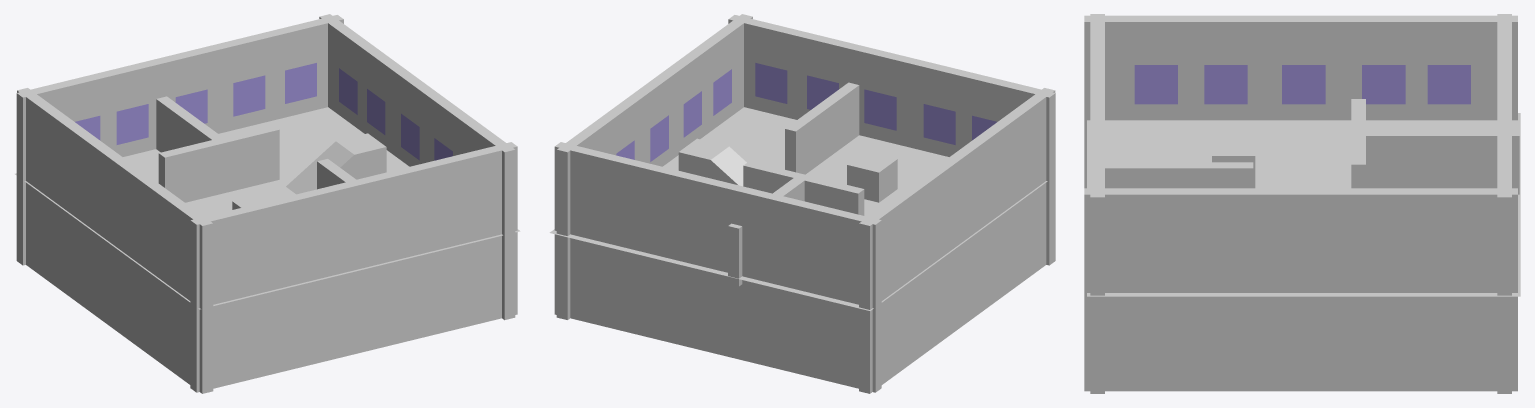
File: shaat.glb
3 renders of one model, left to right at view 1: azimuth 30°, elevation 25°; view 2: azimuth 150°, elevation 25°; view 3: azimuth 270°, elevation 25°, orthographic. The views are drawn at different scales.
Parts seen in each view (by area): view 1: Cube.003, Cube, Cube.002, Cube.001, Plane, Cube.006, Cube.008, Cube.004, Plane.014, Plane.013, Plane.015, Cube.005 (+4 smaller); view 2: Cube.002, Cube, Cube.003, Cube.001, Plane, Cube.005, Cube.006, Cube.008, Cube.007, Cube.004, Plane.017, Plane.018 (+5 smaller); view 3: Cube.001, Cube, Plane, Cube.004, Cube.002, Cube.003, Cube.005, Plane.002, Plane.004, Plane.005, Plane.006, Plane.003 (+2 smaller).
Boxes of the visible parts, left/top/right/bottom form: Cube.003: left=190, top=142, right=517, bottom=392; Cube: left=17, top=88, right=213, bottom=393; Cube.002: left=16, top=15, right=343, bottom=265; Cube.001: left=319, top=14, right=515, bottom=320; Plane: left=15, top=107, right=520, bottom=309; Cube.006: left=158, top=125, right=279, bottom=202; Cube.008: left=286, top=133, right=386, bottom=194; Cube.004: left=156, top=96, right=223, bottom=152; Plane.014: left=233, top=75, right=265, bottom=116; Plane.013: left=116, top=104, right=148, bottom=144; Plane.015: left=285, top=63, right=316, bottom=103; Cube.005: left=317, top=159, right=356, bottom=189; Cube.002: left=554, top=142, right=881, bottom=392; Cube: left=859, top=88, right=1055, bottom=393; Cube.003: left=728, top=15, right=1055, bottom=265; Cube.001: left=556, top=14, right=752, bottom=319; Plane: left=549, top=107, right=1047, bottom=310; Cube.005: left=785, top=82, right=859, bottom=174; Cube.006: left=743, top=161, right=864, bottom=215; Cube.008: left=678, top=138, right=746, bottom=186; Cube.007: left=847, top=151, right=897, bottom=202; Cube.004: left=728, top=177, right=804, bottom=286; Plane.017: left=864, top=89, right=896, bottom=130; Plane.018: left=923, top=104, right=955, bottom=144; Cube.001: left=1084, top=188, right=1517, bottom=391; Cube: left=1084, top=15, right=1517, bottom=188; Plane: left=1087, top=113, right=1520, bottom=296; Cube.004: left=1364, top=129, right=1519, bottom=194; Cube.002: left=1497, top=14, right=1511, bottom=393; Cube.003: left=1090, top=14, right=1104, bottom=393; Cube.005: left=1105, top=162, right=1253, bottom=188; Plane.002: left=1282, top=65, right=1325, bottom=104; Plane.004: left=1204, top=65, right=1247, bottom=104; Plane.005: left=1134, top=65, right=1177, bottom=104; Plane.006: left=1427, top=65, right=1470, bottom=104; Plane.003: left=1362, top=65, right=1405, bottom=104.
Size of the model in its own units: 20.09 by 10 by 20.12.
